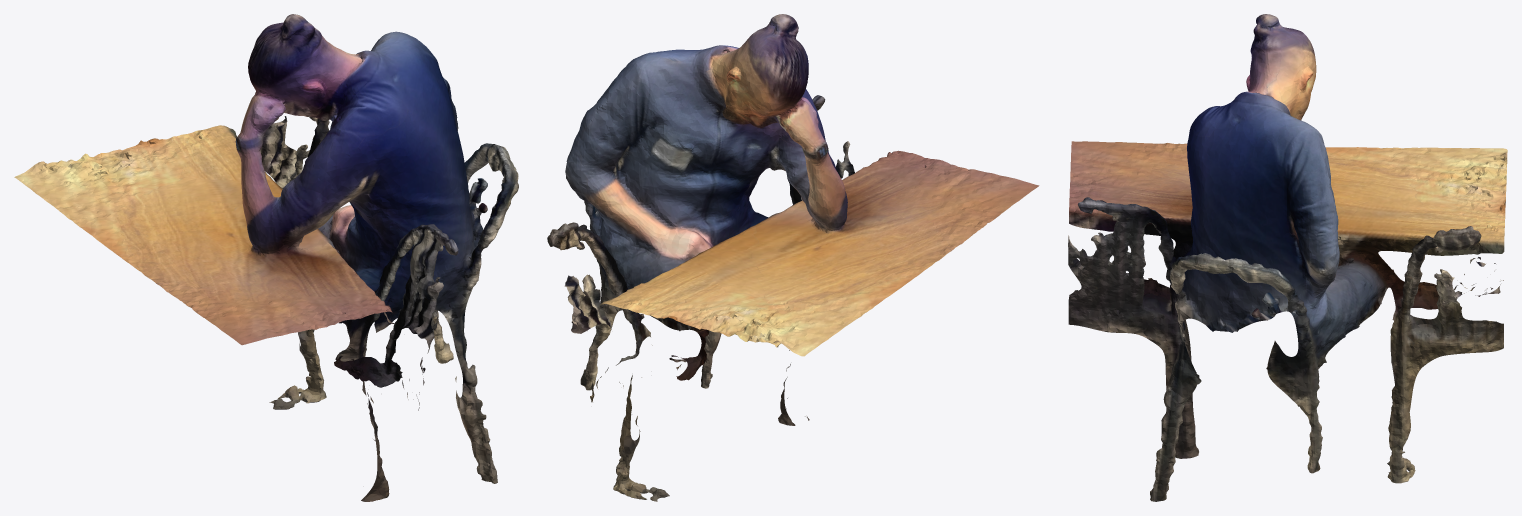
The model's file is Roman.glb.
3 renders of one model, left to right at view 1: azimuth 30°, elevation 25°; view 2: azimuth 150°, elevation 25°; view 3: azimuth 270°, elevation 25°, orthographic. The views are drawn at different scales.
Bounding box in the file's own units: 1.08 × 1.29 × 1.22.
Materials: 1 (1 with a texture image).
